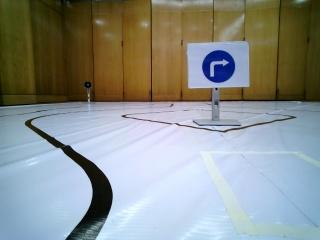right: (190, 44, 252, 88)
